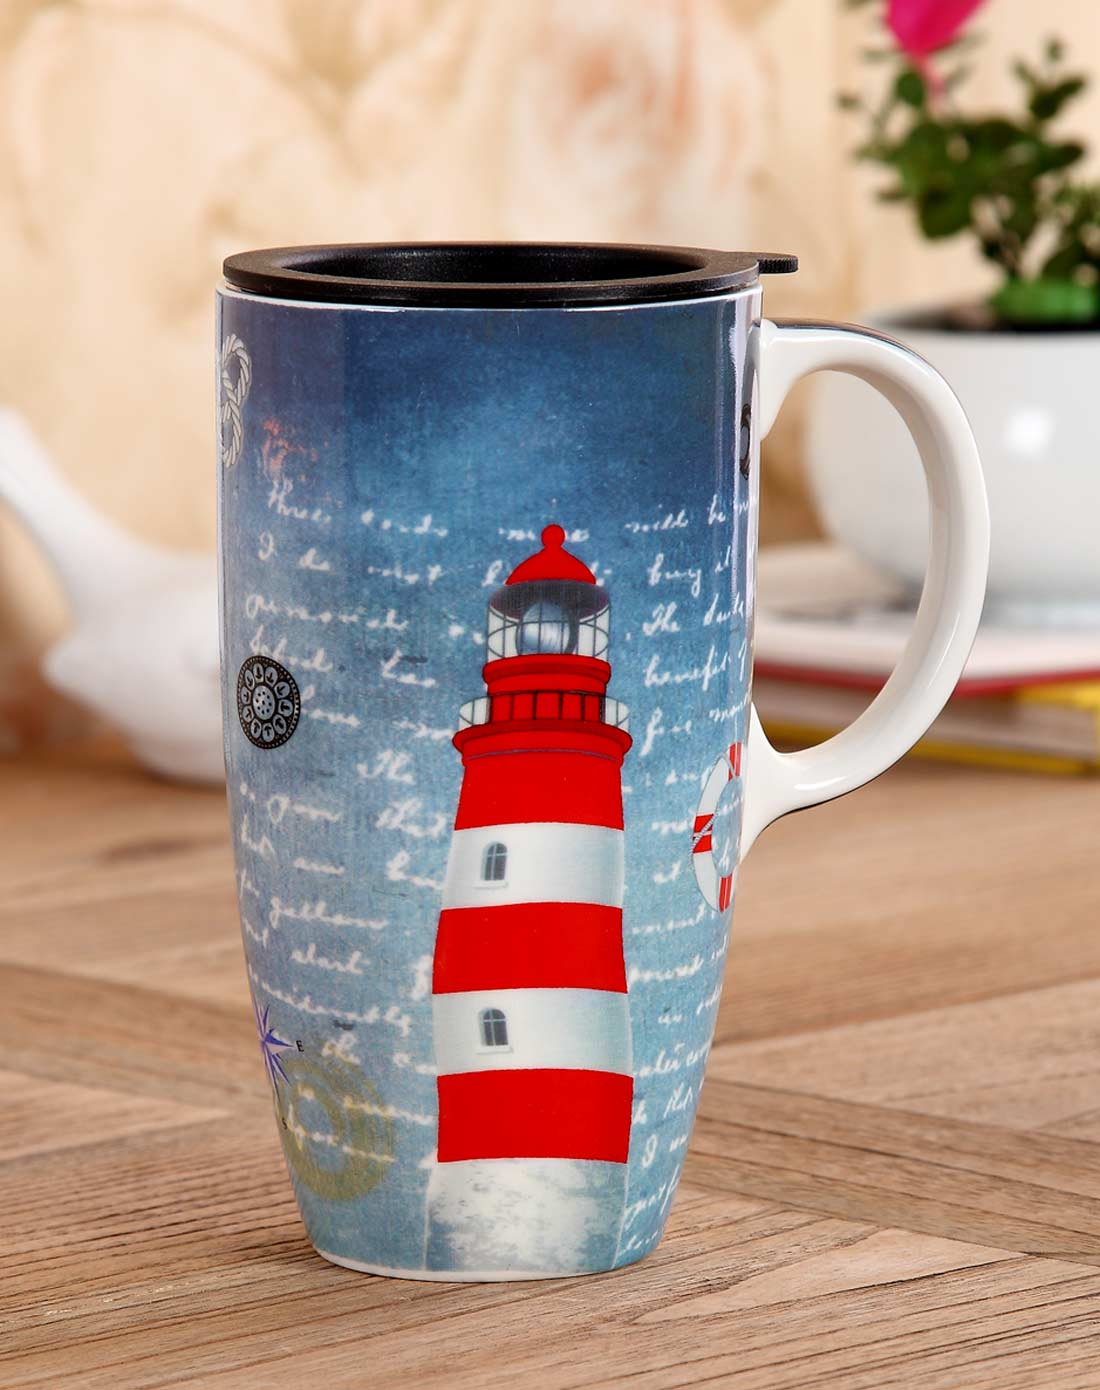cup: (214, 236, 998, 1295)
